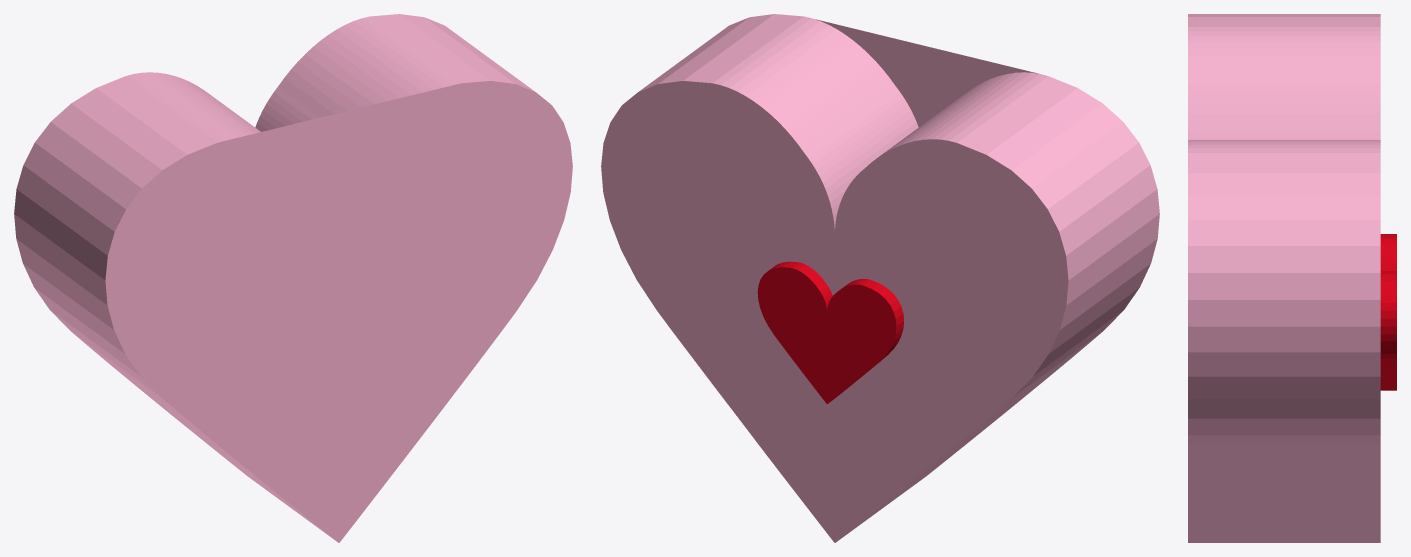
The model's file is heart.fbx.
3 views of the same model, side by side, from view 1: azimuth 30°, elevation 25°; view 2: azimuth 150°, elevation 25°; view 3: azimuth 270°, elevation 25° (orthographic). The views are drawn at different scales.
Visible parts, largest first — view 1: heart.013; view 2: heart.013, heart.016; view 3: heart.013, heart.016.
Part boxes in pixels (box(x1,y1,x2,y2)): heart.013: box(14, 14, 572, 542); heart.013: box(601, 14, 1159, 542); heart.016: box(757, 261, 903, 403); heart.013: box(1188, 14, 1380, 542); heart.016: box(1380, 234, 1396, 390).
Size of the model in its own units: 53.81 by 47.28 by 19.76.
